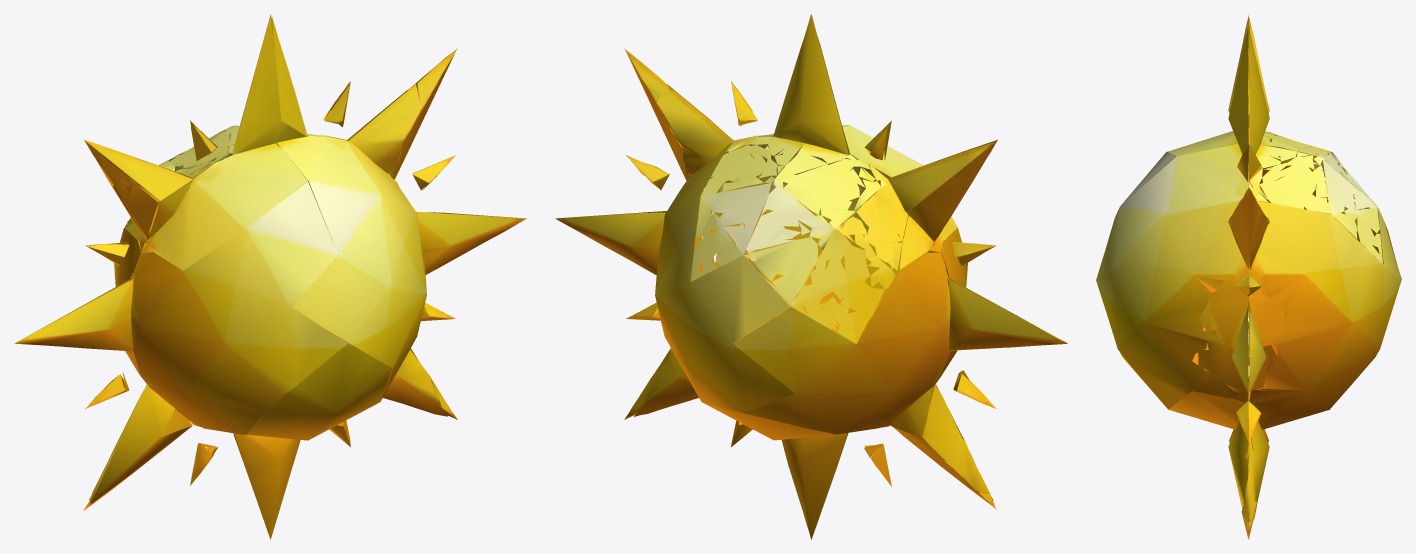
The model's file is sun_gen.glb.
3 views of the same model, side by side, from view 1: azimuth 30°, elevation 25°; view 2: azimuth 150°, elevation 25°; view 3: azimuth 270°, elevation 25° (orthographic). The views are drawn at different scales.
Parts seen in each view (by area): view 1: sun_gen; view 2: sun_gen; view 3: sun_gen.
Boxes of the visible parts, x1,y1,x2,y2 form: sun_gen: (14, 14, 526, 539); sun_gen: (555, 14, 1067, 539); sun_gen: (1096, 15, 1401, 539).
Size of the model in its own units: 0.9993 by 0.98 by 0.5456.
1 material, 1 textured.
